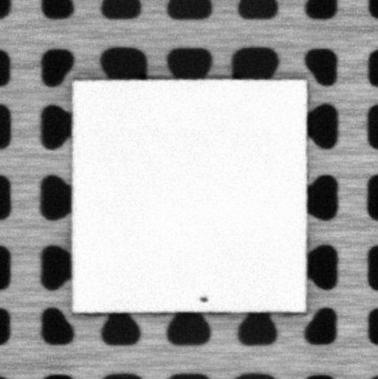DIE_INK: (198, 294, 210, 304)
